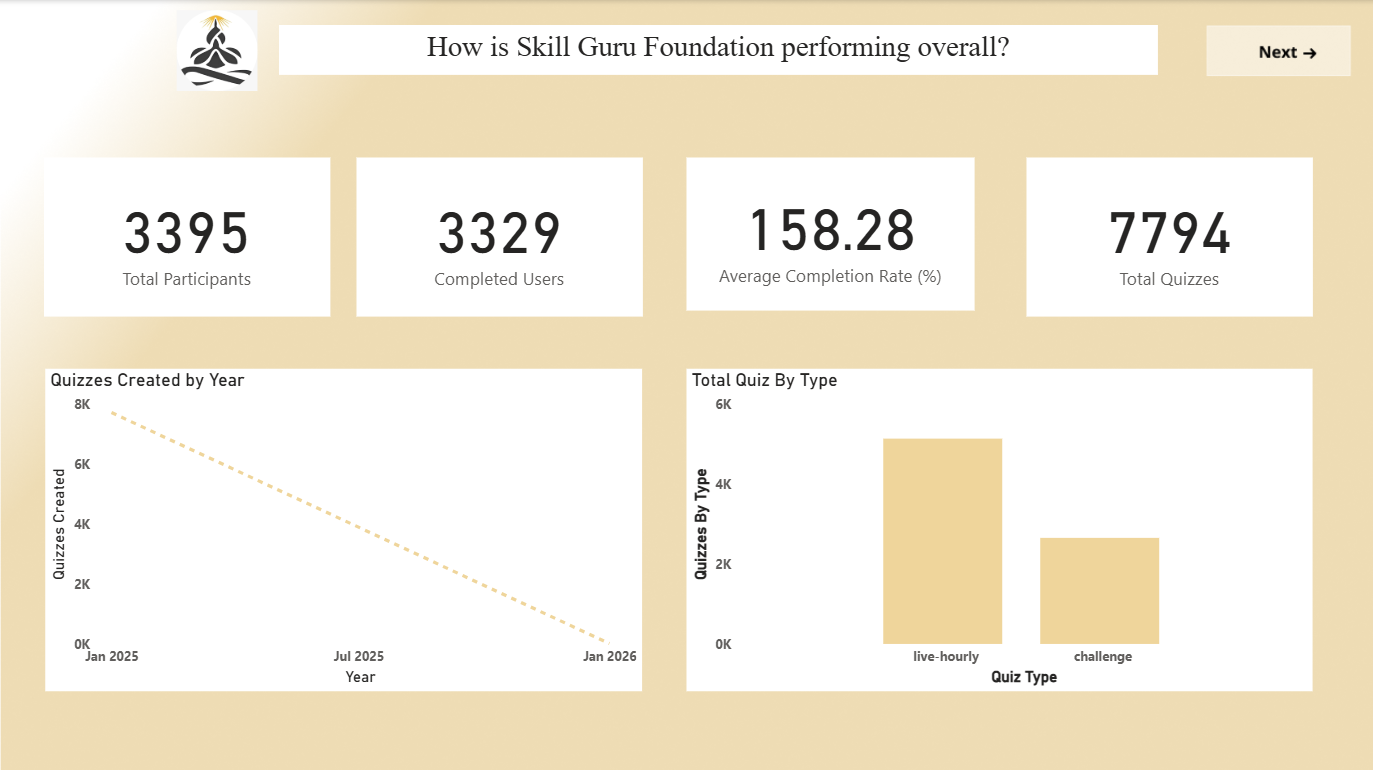

The page's visual inventory and layout, read from the dashboard file:
{"tool":"powerbi","page":{"name":"Page 1","canvas":[1280,720],"ordinal":1},"visuals":[{"type":"card","fields":{"Values":["_Measures.Total Quizzes"]},"box":[956,146,266,148],"z":0},{"type":"image","box":[160.5,4.7,84.9,84.9],"z":1000},{"type":"card","fields":{"Values":["_Measures.Total Participants"]},"box":[42,146,266,148],"z":2000},{"type":"card","fields":{"Values":["_Measures.Completed Users"]},"box":[332,146,266,148],"z":3000},{"type":"card","fields":{"Values":["_Measures.Average Completion Rate (%)"]},"box":[640,146,268,142],"z":4000},{"type":"lineChart","fields":{"Category":["vw_dashboard_quiz_analytics.quiz_date.Variation.Date Hierarchy.Year","vw_dashboard_quiz_analytics.quiz_date.Variation.Date Hierarchy.Quarter","vw_dashboard_quiz_analytics.quiz_date.Variation.Date Hierarchy.Month","vw_dashboard_quiz_analytics.quiz_date.Variation.Date Hierarchy.Day"],"Y":["_Measures.Quizzes Created"]},"box":[42.5,342.5,555,300],"z":5000},{"type":"columnChart","title":"Total Quiz By Type","fields":{"Category":["vw_dashboard_quiz_analytics.quiz_type"],"Y":["_Measures.Quizzes by Type"]},"box":[640,342.5,582.5,300],"z":6000},{"type":"textbox","box":[260.5,23.3,817.4,46.5],"z":7000},{"type":"actionButton","box":[1127.6,30,126.5,40],"z":8000}]}

Visuals, with their boxes in screenshot pixels (x1, y1, x2, y2), scaled from the page's 1280x720 canvas onto the 1373x770 screenshot:
card - _Measures.Total Quizzes: select_region(1025, 156, 1311, 314)
image: select_region(172, 5, 263, 96)
card - _Measures.Total Participants: select_region(45, 156, 330, 314)
card - _Measures.Completed Users: select_region(356, 156, 641, 314)
card - _Measures.Average Completion Rate (%): select_region(686, 156, 974, 308)
lineChart - vw_dashboard_quiz_analytics.quiz_date.Variation.Date Hierarchy.Year x vw_dashboard_quiz_analytics.quiz_date.Variation.Date Hierarchy.Quarter: select_region(46, 366, 641, 687)
"Total Quiz By Type" columnChart: select_region(686, 366, 1311, 687)
textbox: select_region(279, 25, 1156, 75)
actionButton: select_region(1210, 32, 1345, 75)
